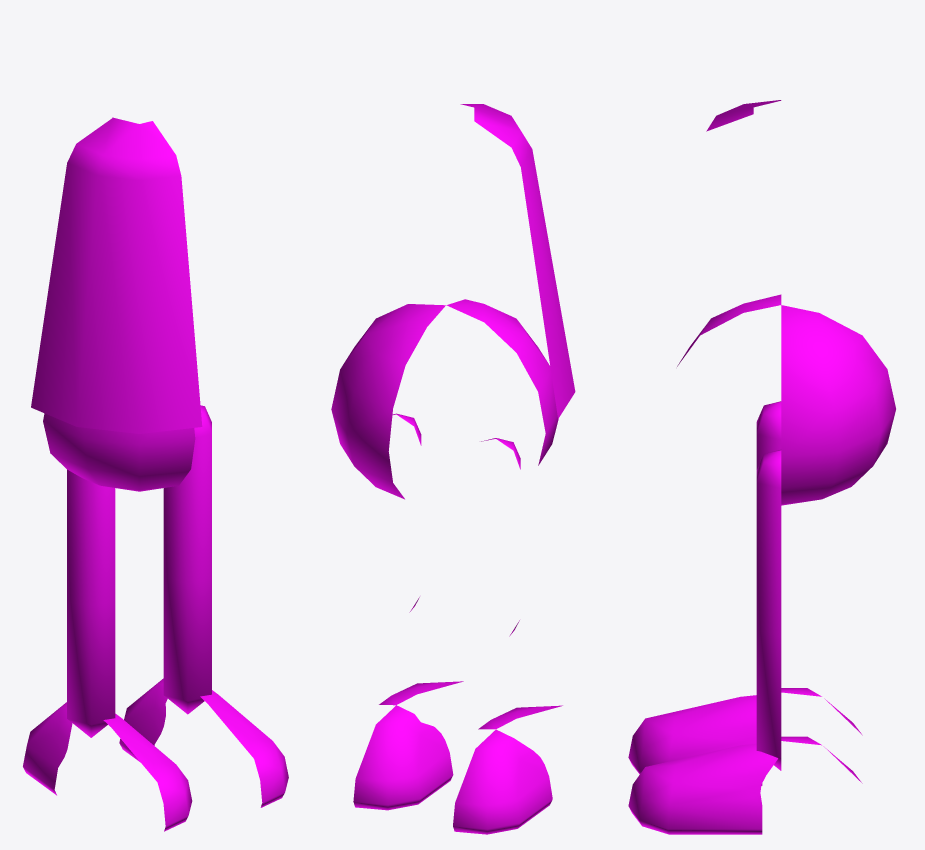
File: ava_bodyA1__ava_bodyA1.glb
The picture shows the model from 3 angles, left to right: view 1: azimuth 30°, elevation 25°; view 2: azimuth 150°, elevation 25°; view 3: azimuth 270°, elevation 25°; orthographic projection. The views are drawn at different scales.
Visible parts, largest first — view 1: polygon0; view 2: polygon0; view 3: polygon0.
Boxes of the visible parts, x1,y1,x2,y2 form: polygon0: (23,117,288,831); polygon0: (331,104,575,834); polygon0: (628,100,895,834).
Size of the model in its own units: 3.38 by 11 by 3.69.
1 material, 1 textured.
